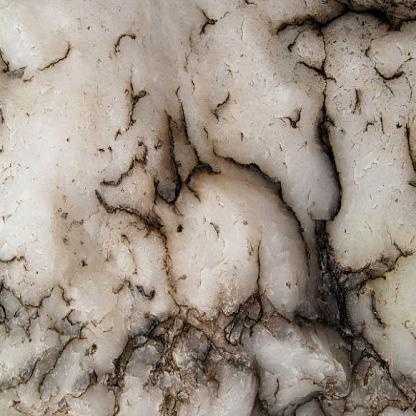Metamorphic_Marble: (0, 0, 414, 415)
